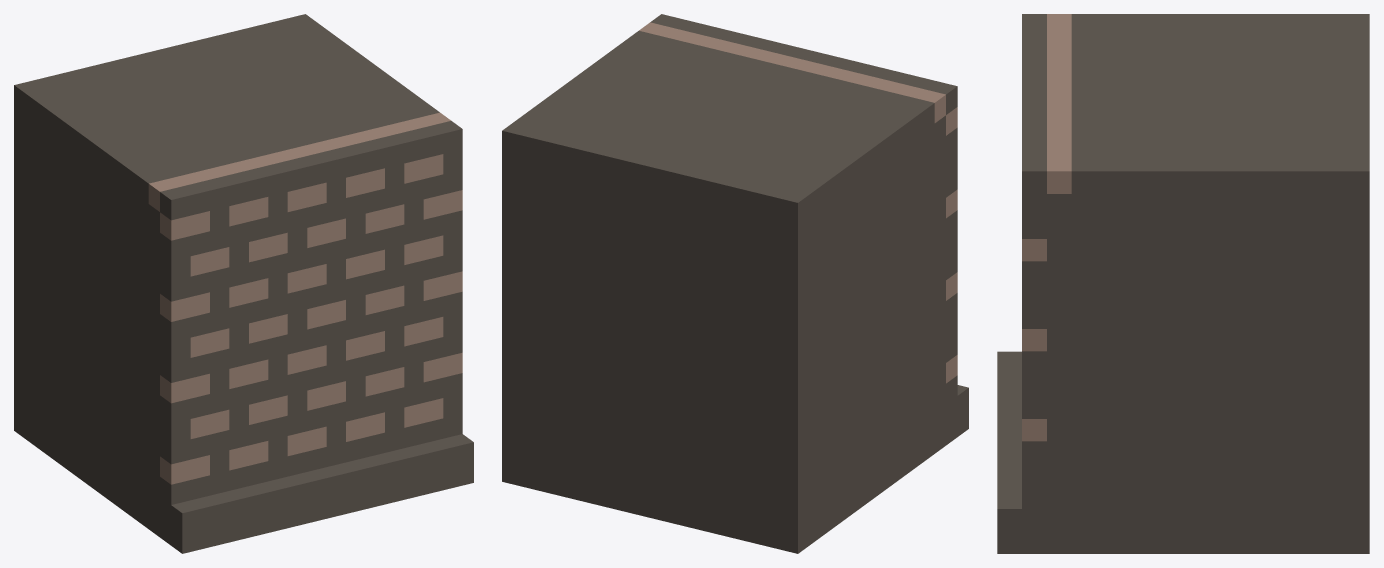
The model's file is dungeon_a_a_outer_wall_segment_a_flipped.obj.
3 renders of one model, left to right at view 1: azimuth 30°, elevation 25°; view 2: azimuth 150°, elevation 25°; view 3: azimuth 270°, elevation 25°, orthographic. The views are drawn at different scales.
Size of the model in its own units: 1.5 by 1.7 by 1.5.
1 material, 1 textured.
